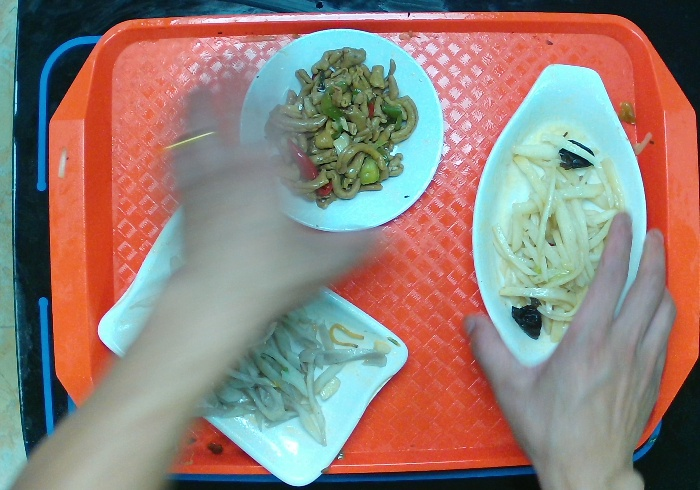RJxy-Xiao_Yuan_Die: (231, 32, 450, 233)
RJxy-Yu_Pan: (467, 59, 647, 377)
